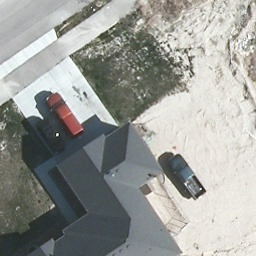car: (36, 120, 66, 154)
pickup: (165, 155, 208, 201), (44, 90, 84, 137)
